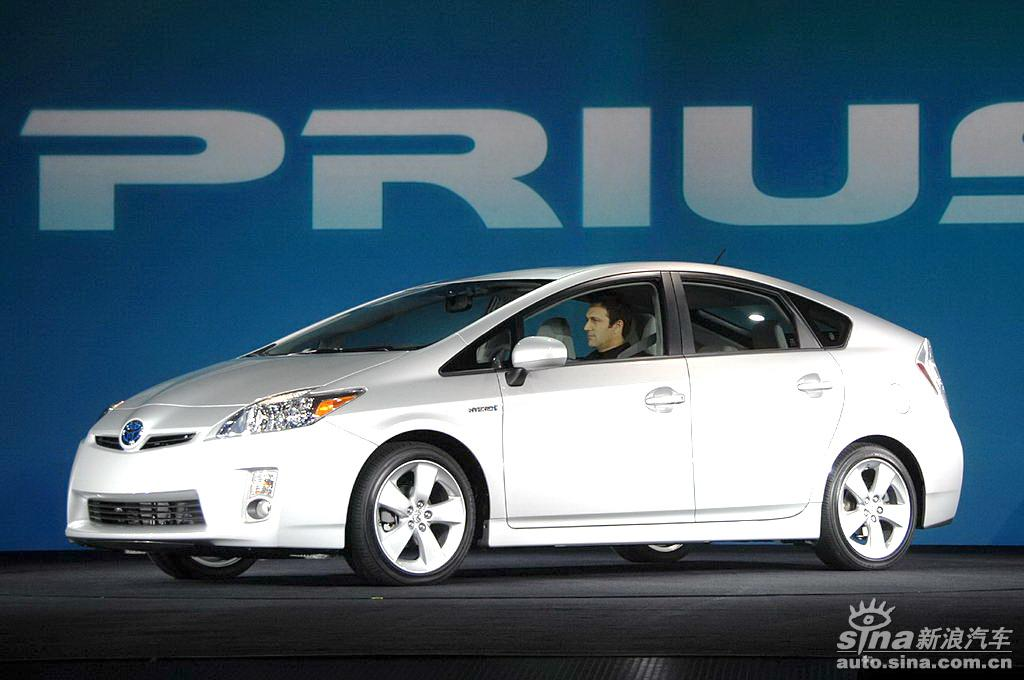back_view: (479, 49, 683, 215)
backlight: (510, 75, 615, 120)
side_glass: (140, 10, 404, 83)
